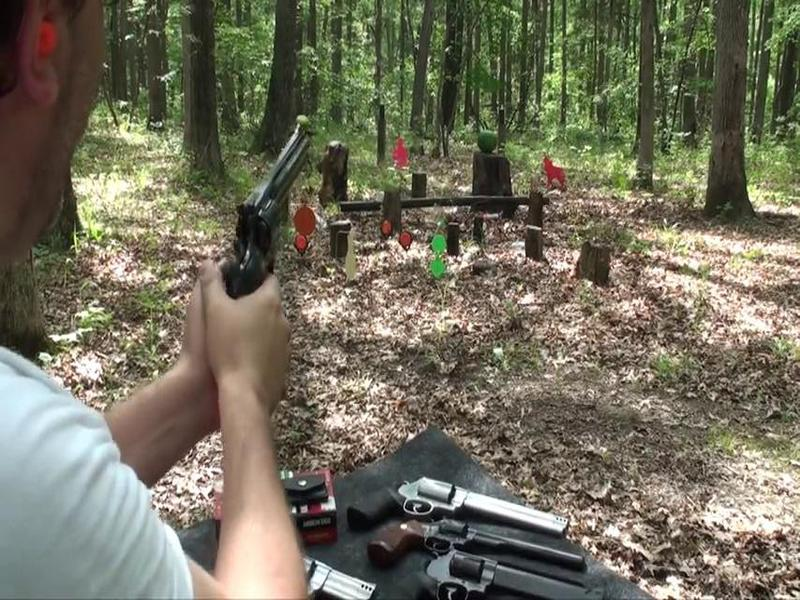Revolver: (222, 124, 335, 324)
